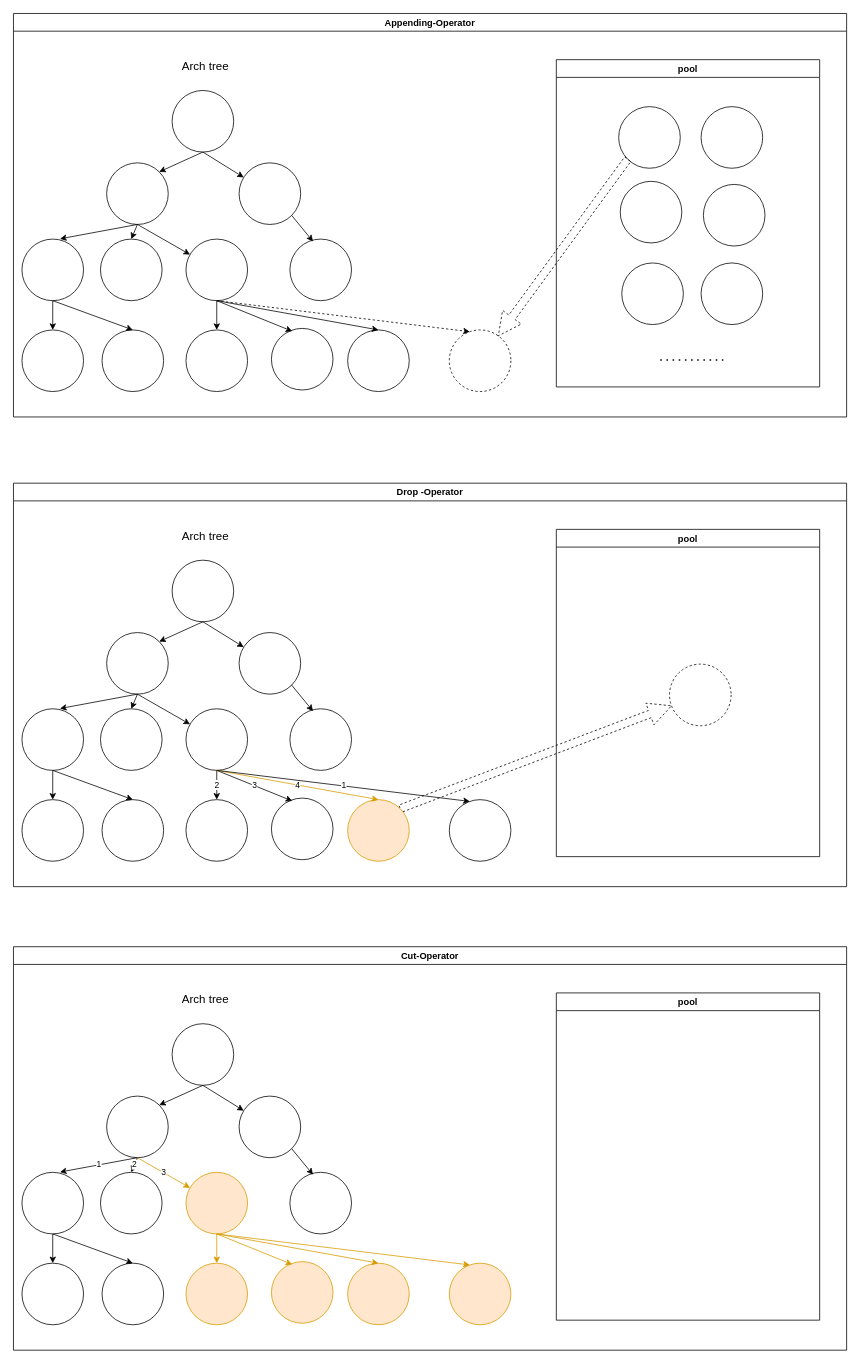
Some shapes in this 860 by 1364 pixel diagram are drawn without their labels. The centre of each missing label's shape, as x and y in pixels:
best position: (480,360)
unserved branch: (216,1203)
unserved node: (378,830)
